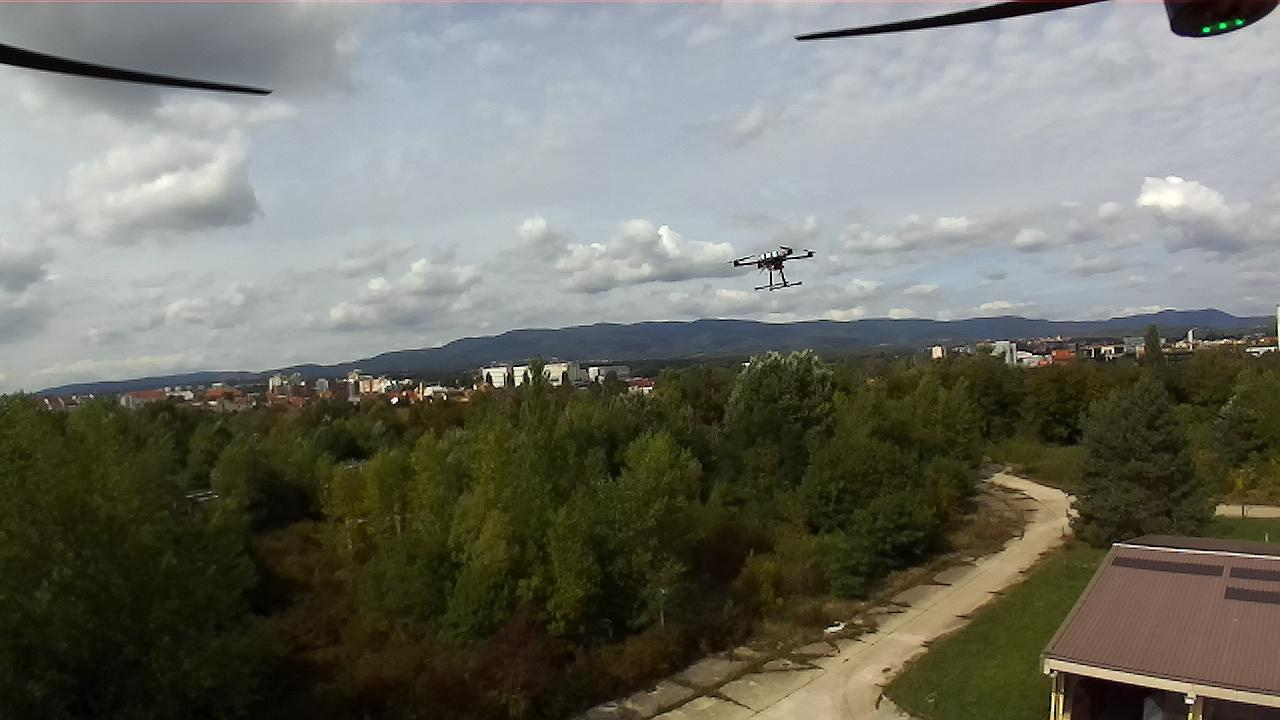drone: (728, 248, 818, 297)
